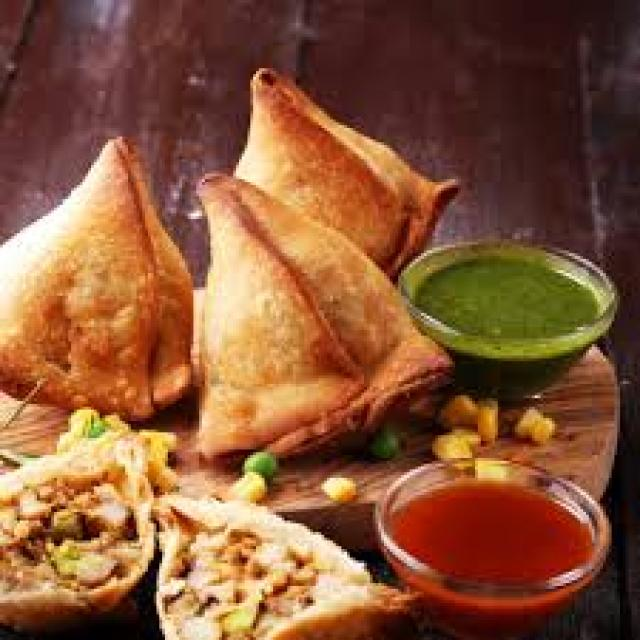SAMOSA: (191, 174, 455, 464), (0, 138, 199, 418), (234, 63, 461, 278)
